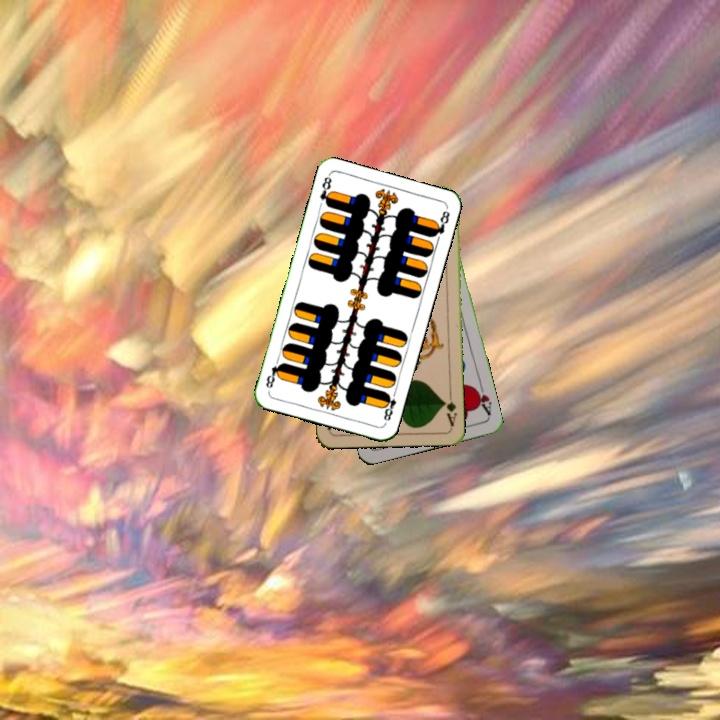E8: (378, 386, 399, 423), (316, 171, 335, 209)
GA: (440, 389, 459, 429)
HA: (470, 379, 494, 419)
